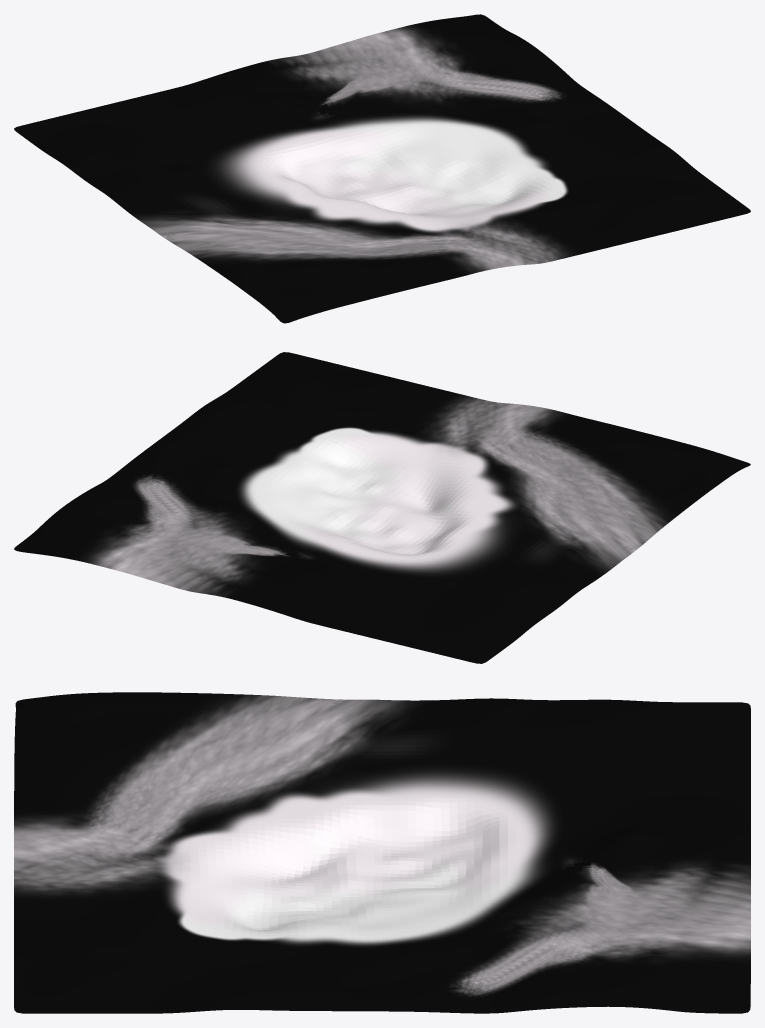
The model's file is terrain.gltf.
3 renders of one model, top to bottom at view 1: azimuth 30°, elevation 25°; view 2: azimuth 150°, elevation 25°; view 3: azimuth 270°, elevation 25°, orthographic. The views are drawn at different scales.
Parts seen in each view (by area): view 1: Plane; view 2: Plane; view 3: Plane.
Part boxes in pixels (left/top/right/bottom): Plane: left=14, top=14, right=750, bottom=323; Plane: left=14, top=352, right=750, bottom=663; Plane: left=14, top=692, right=750, bottom=1013.
Size of the model in its own units: 100 by 5.65 by 100.
Materials: 1 (1 with a texture image).
